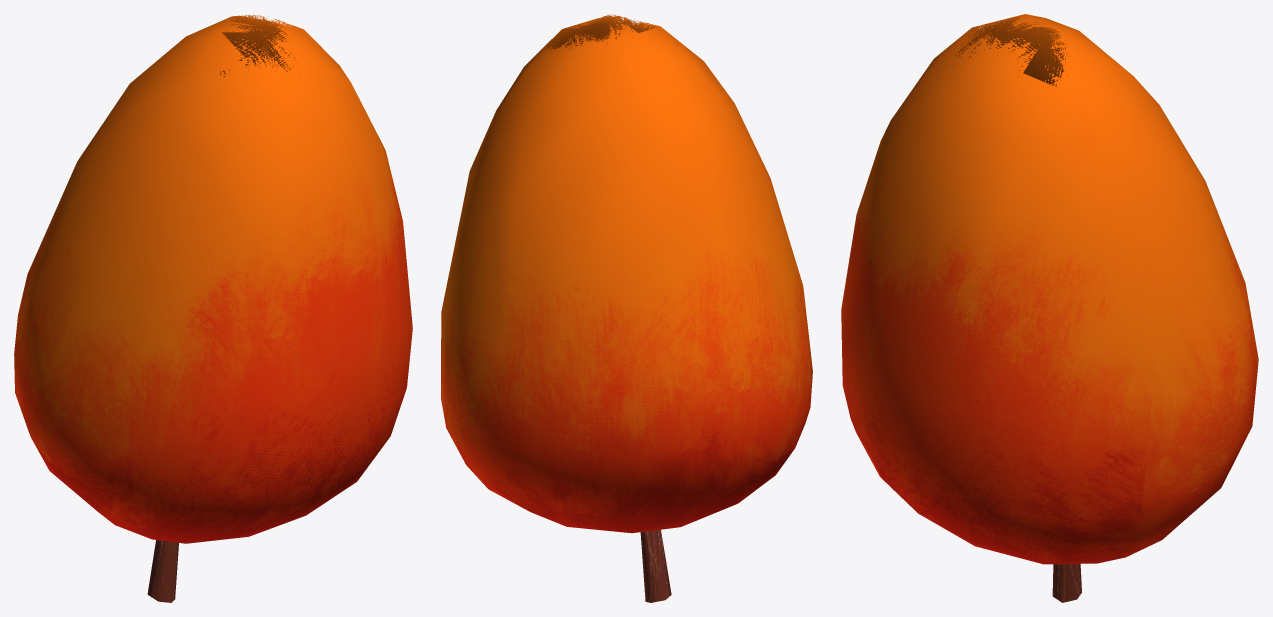
The model's file is 0_Tree.fbx.
3 renders of one model, left to right at view 1: azimuth 30°, elevation 25°; view 2: azimuth 150°, elevation 25°; view 3: azimuth 270°, elevation 25°, orthographic. The views are drawn at different scales.
Parts seen in each view (by area): view 1: 0_Tree; view 2: 0_Tree; view 3: 0_Tree.
Part boxes in pixels (x1=…): 0_Tree: x1=14, y1=15, x2=412, y2=602; 0_Tree: x1=441, y1=14, x2=812, y2=602; 0_Tree: x1=841, y1=14, x2=1258, y2=602.
Bounding box in the file's own units: 117 × 185 × 116.
